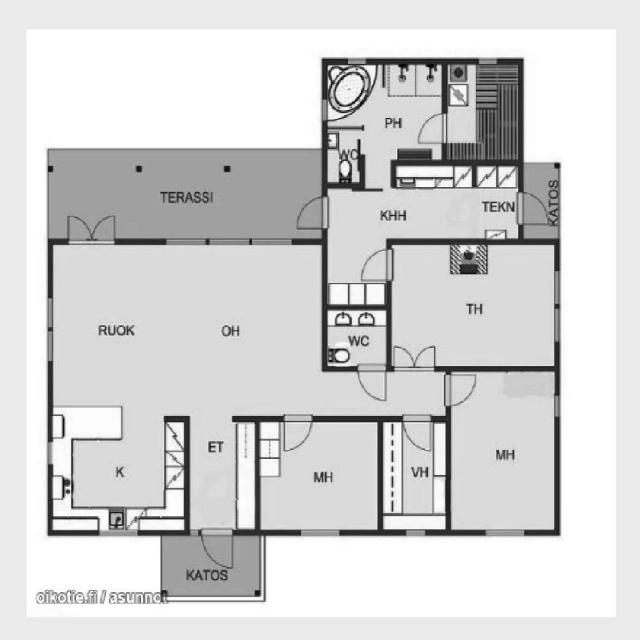door: (65, 213, 120, 248), (393, 342, 439, 375), (515, 190, 552, 231), (443, 370, 479, 412), (199, 529, 233, 573), (279, 416, 314, 454), (357, 251, 394, 286), (294, 195, 328, 231), (361, 364, 390, 402), (417, 112, 449, 146)
window: (163, 234, 292, 248), (551, 267, 564, 349), (43, 296, 57, 364), (92, 526, 136, 544), (550, 389, 568, 424), (292, 526, 342, 538), (481, 526, 525, 537), (400, 526, 432, 540), (344, 54, 374, 67), (317, 97, 330, 123), (478, 55, 500, 67)
zone: (45, 240, 322, 420), (389, 240, 558, 370), (440, 370, 556, 534), (48, 411, 183, 539), (262, 417, 376, 532), (326, 59, 444, 139), (442, 60, 521, 165), (378, 416, 446, 534), (324, 306, 386, 370), (325, 123, 362, 188)
